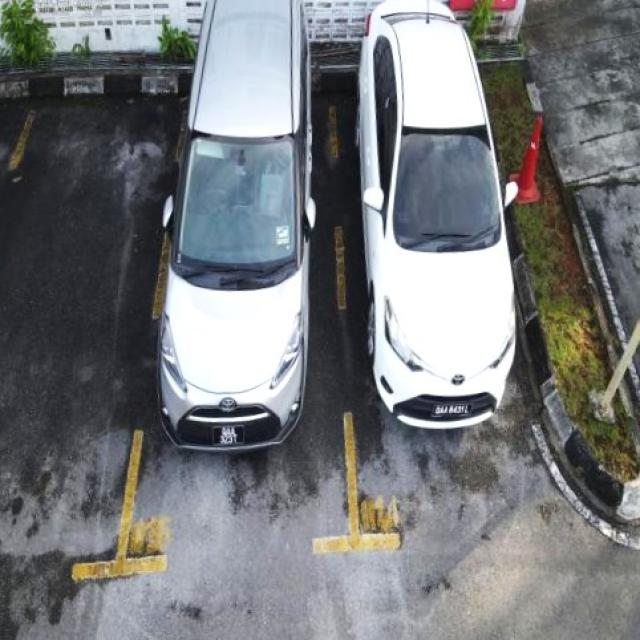Legalparking: (357, 0, 517, 426), (161, 0, 313, 445)
